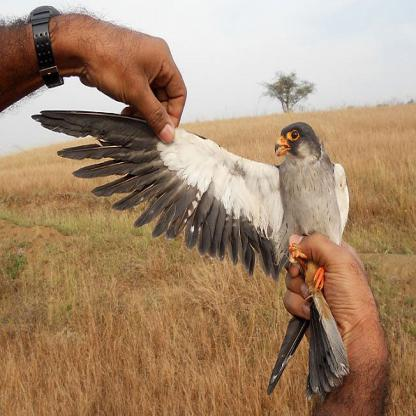Burung: (36, 113, 348, 396)
